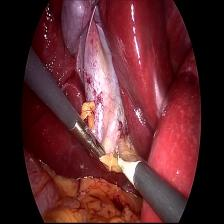Grasper: (67, 113, 107, 172)
Hook: (114, 144, 146, 192)
